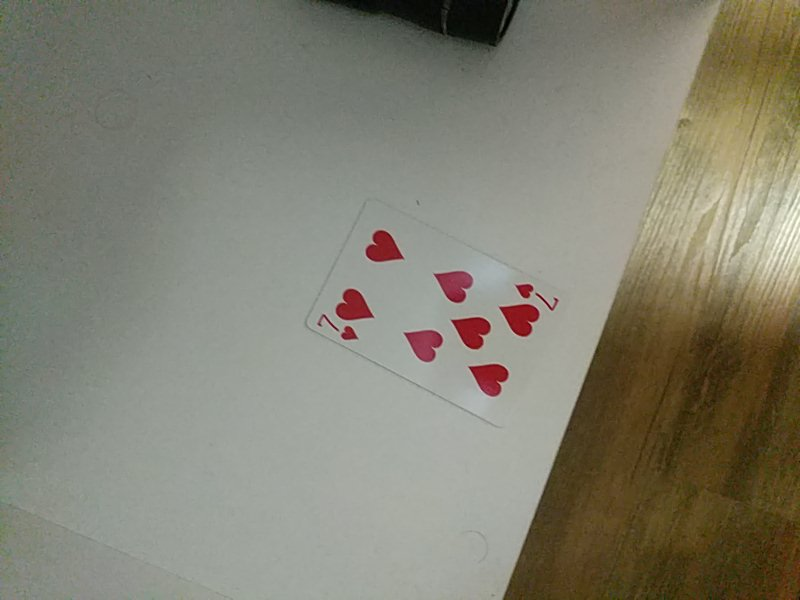Hearts: (300, 201, 576, 428)
